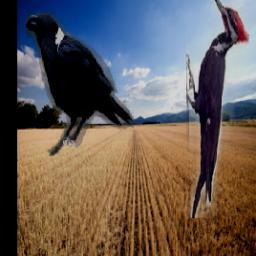Crow: (25, 14, 133, 157)
Woodpecker: (186, 0, 249, 219)
